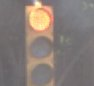Red: (20, 5, 60, 86)
